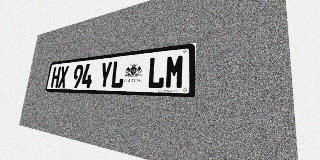4: (81, 63, 94, 88)
9: (72, 64, 84, 88)
H: (50, 67, 61, 88)
L: (147, 56, 166, 89), (110, 60, 126, 88)
M: (164, 54, 185, 89)
X: (58, 66, 69, 88)
Y: (98, 61, 113, 88)
